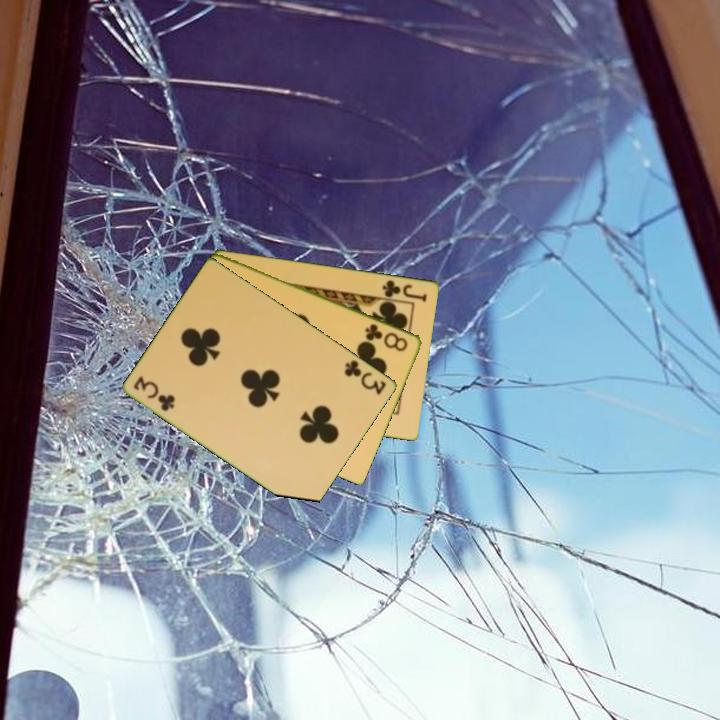3c: (341, 356, 390, 398), (130, 373, 178, 414)
8c: (362, 320, 411, 354)
Jc: (379, 276, 430, 305)
